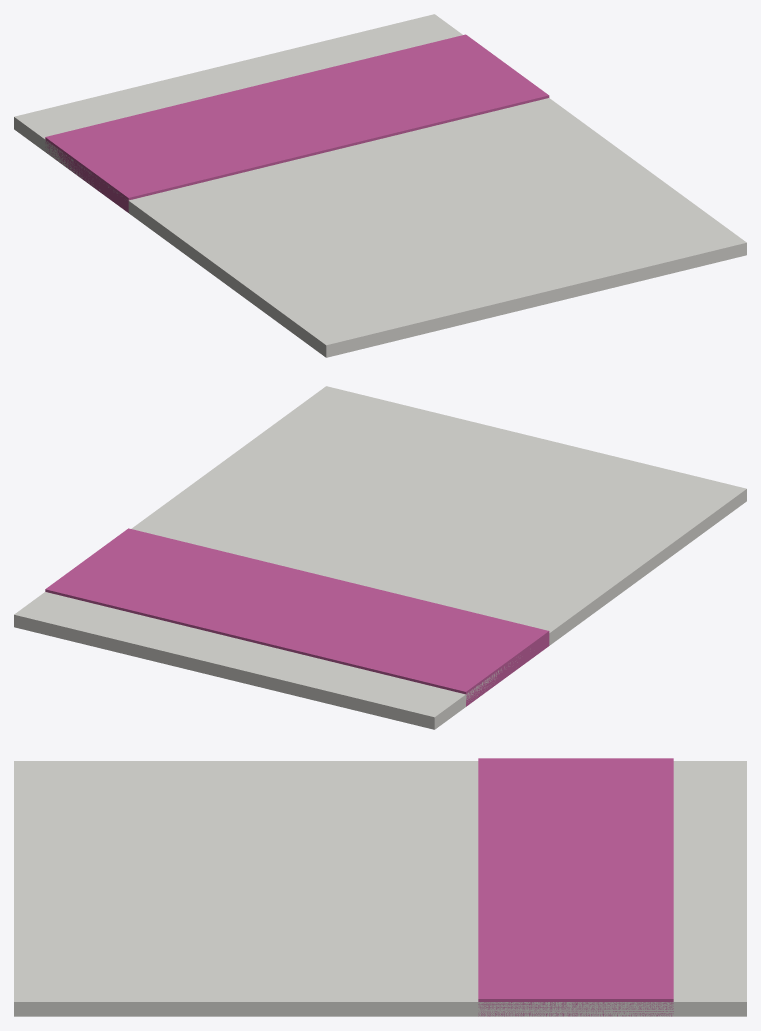
File: prop_flyer.glb
3 renders of one model, top to bottom at view 1: azimuth 30°, elevation 25°; view 2: azimuth 150°, elevation 25°; view 3: azimuth 270°, elevation 25°, orthographic. The views are drawn at different scales.
Parts seen in each view (by area): view 1: Flyer; view 2: Flyer; view 3: Flyer.
Boxes of the visible parts, left/top/right/bottom form: Flyer: left=14, top=14, right=746, bottom=357; Flyer: left=14, top=386, right=746, bottom=729; Flyer: left=14, top=758, right=746, bottom=1016.
Bounding box in the file's own units: 0.35 × 0.012 × 0.45.
